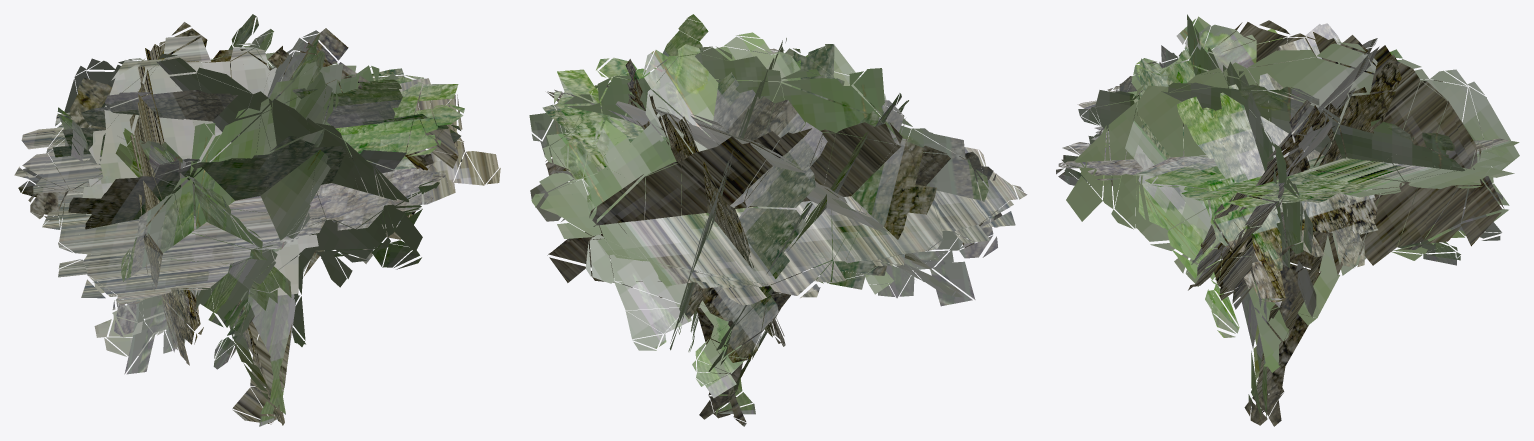
The picture shows the model from 3 angles, left to right: view 1: azimuth 30°, elevation 25°; view 2: azimuth 150°, elevation 25°; view 3: azimuth 270°, elevation 25°; orthographic projection.
Parts seen in each view (by area): view 1: pMesh1; view 2: pMesh1; view 3: pMesh1.
Part boxes in pixels (x1,y1,x2,y2): pMesh1: (14, 14, 500, 426); pMesh1: (529, 14, 1027, 426); pMesh1: (1056, 14, 1519, 426).
Size of the model in its own units: 360 by 289 by 335.
